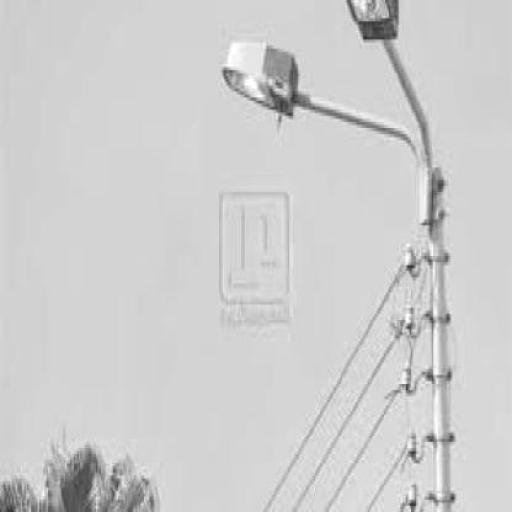street light: (221, 4, 453, 510)
